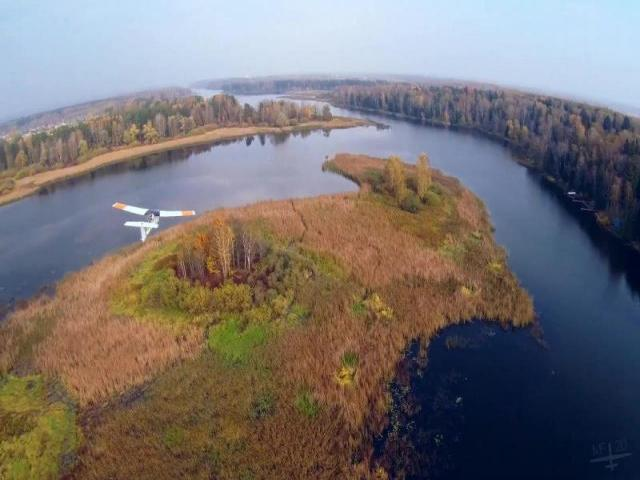hedef: (108, 192, 196, 247)
